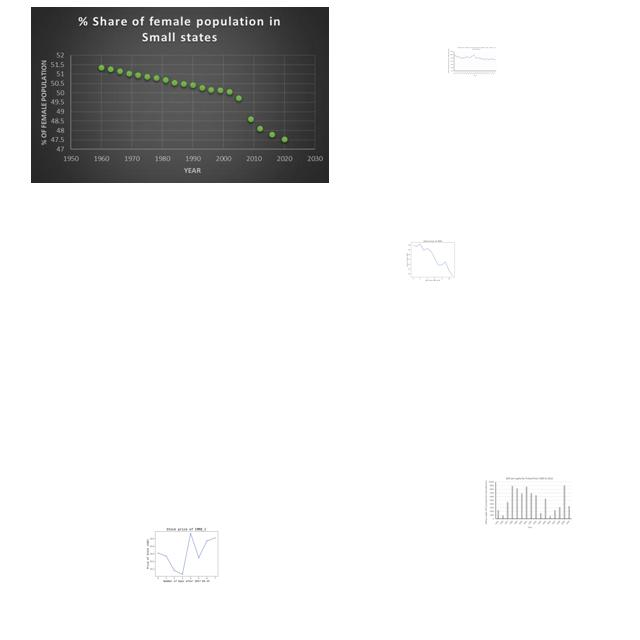Graph: (31, 7, 329, 183), (145, 523, 226, 584), (484, 476, 573, 529), (399, 237, 465, 282), (447, 46, 497, 77)
